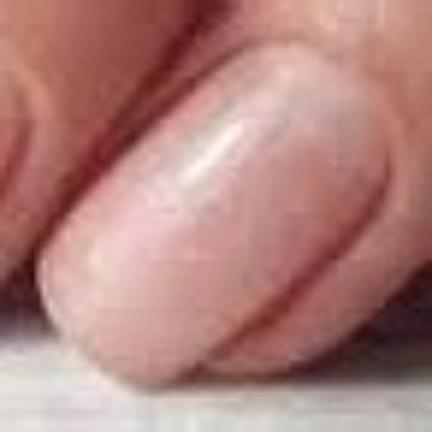Nail: (34, 39, 395, 386)
